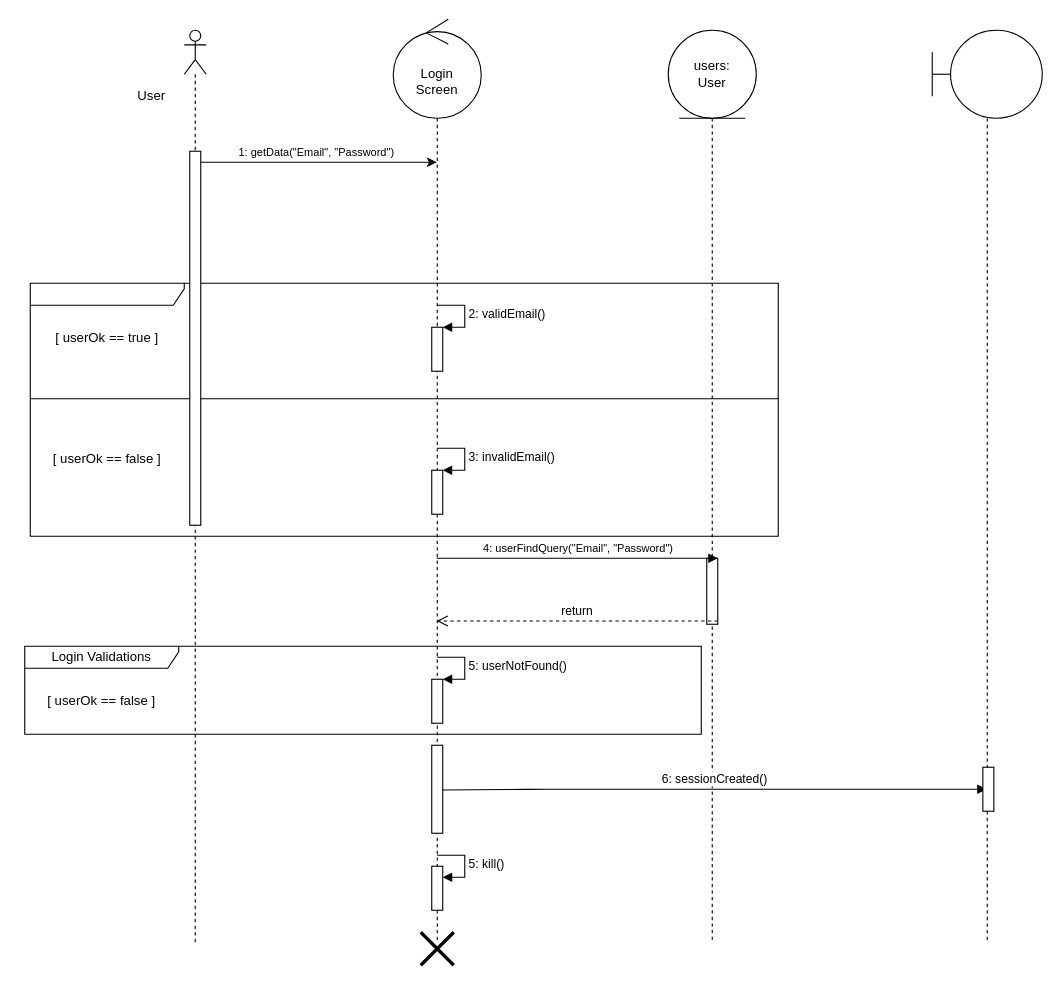
Image size: 1062x986. Some labels were removed from this diagram. The shapes that lost their labels are listed below. From the top down, each one's box as (x1, y1, x2, y2) in pixels, then its label:
(29, 282, 778, 536): Login Email Validations
(931, 29, 1042, 943): Principal Screen
